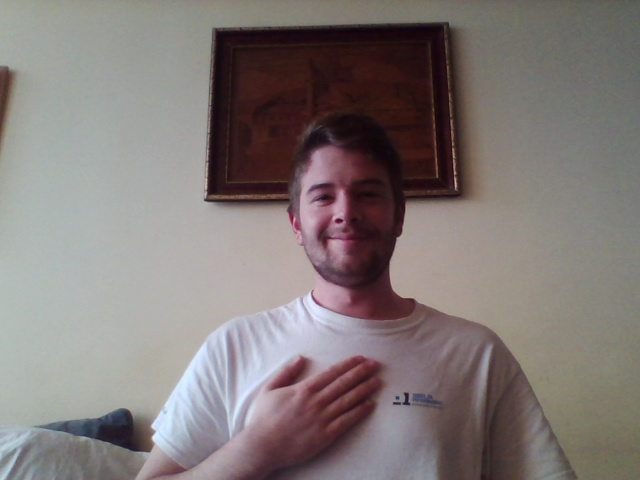molimte: (248, 348, 383, 472)
